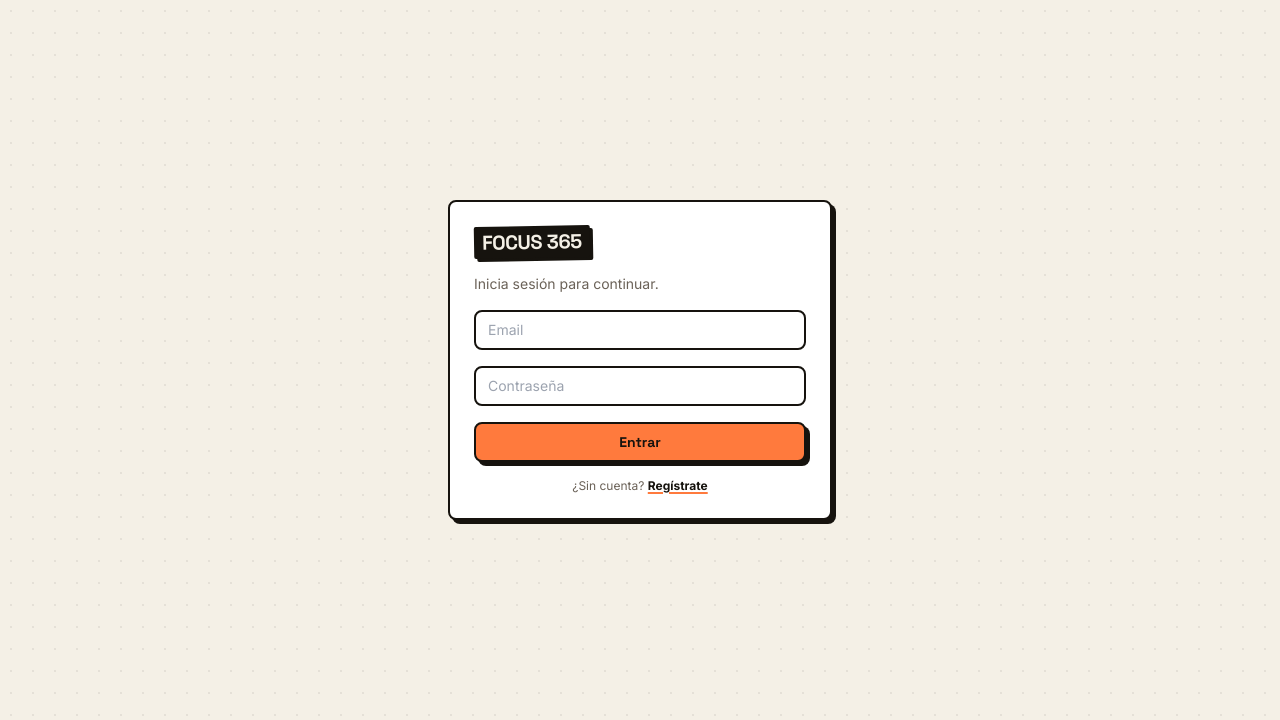
LoginPage › muestra error cuando el login falla
The image size is (1280, 720).
Type "x@y.com" into the field labelled "Email" at (640, 330), box [474,310,806,350]
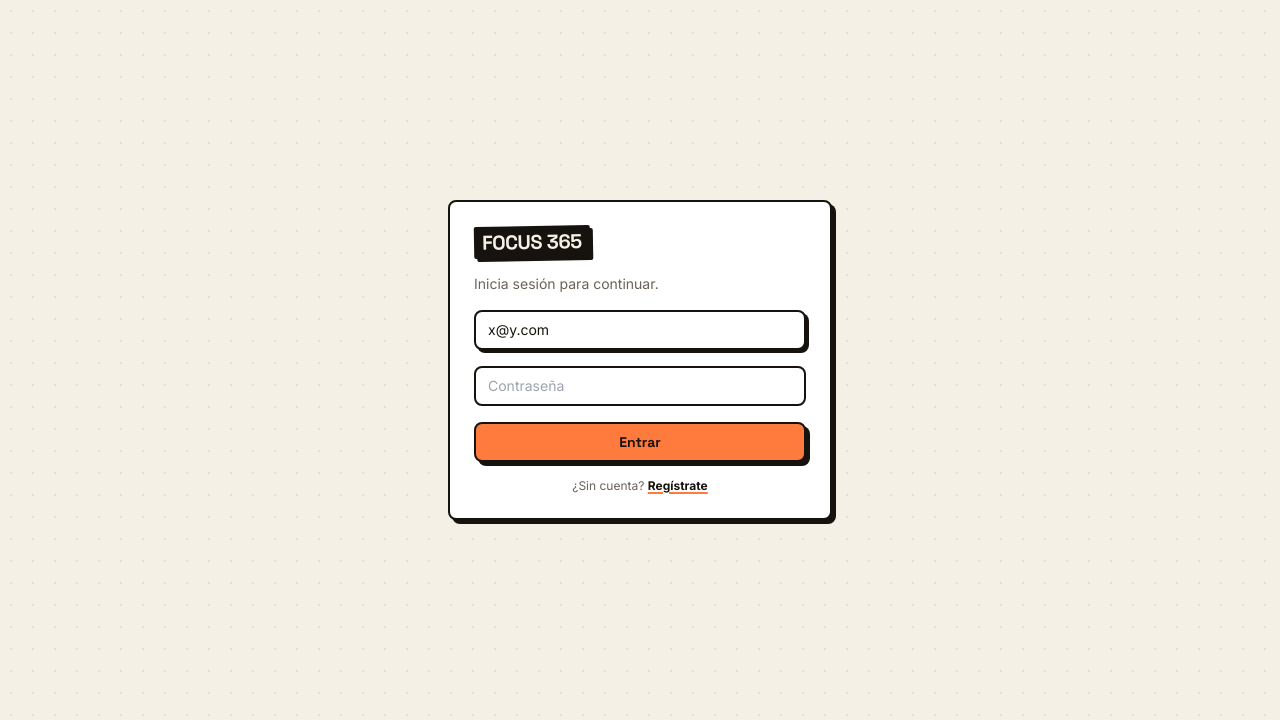
Type "bad" into the password field labelled "Contraseña" at (640, 386), box [474,366,806,406]
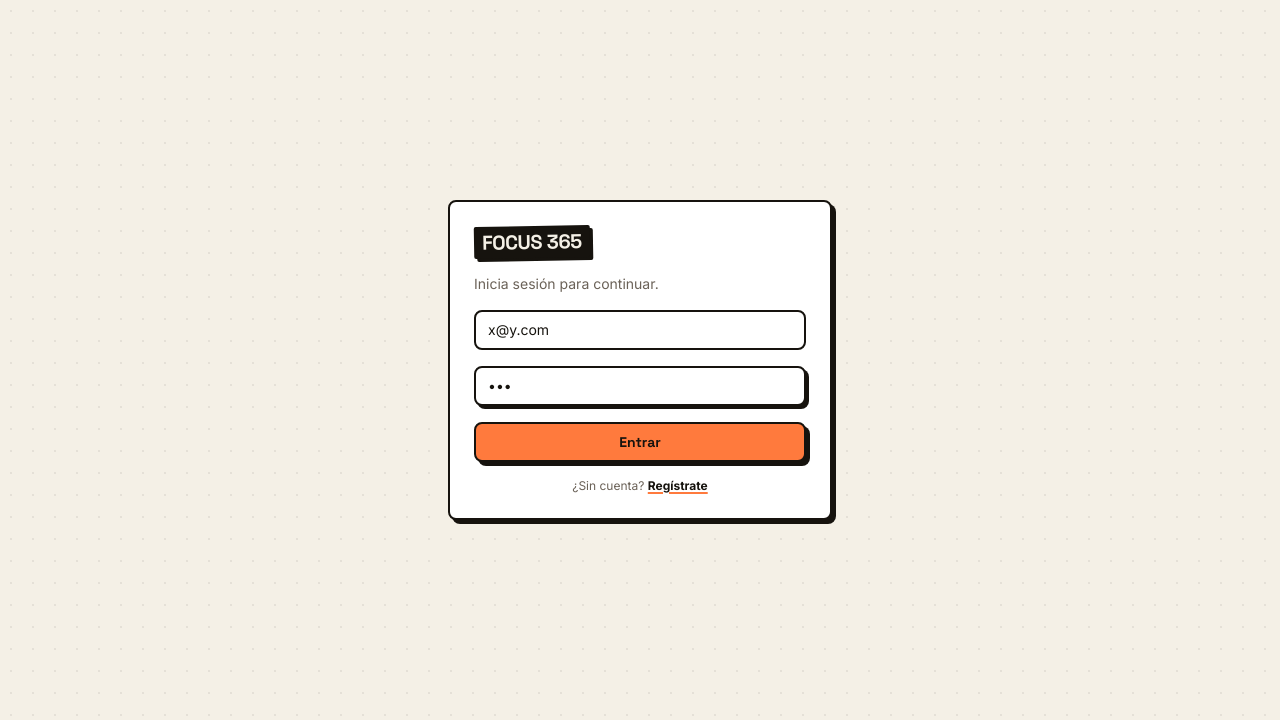
Click the button "Entrar" at (640, 442), box [474,422,806,462]
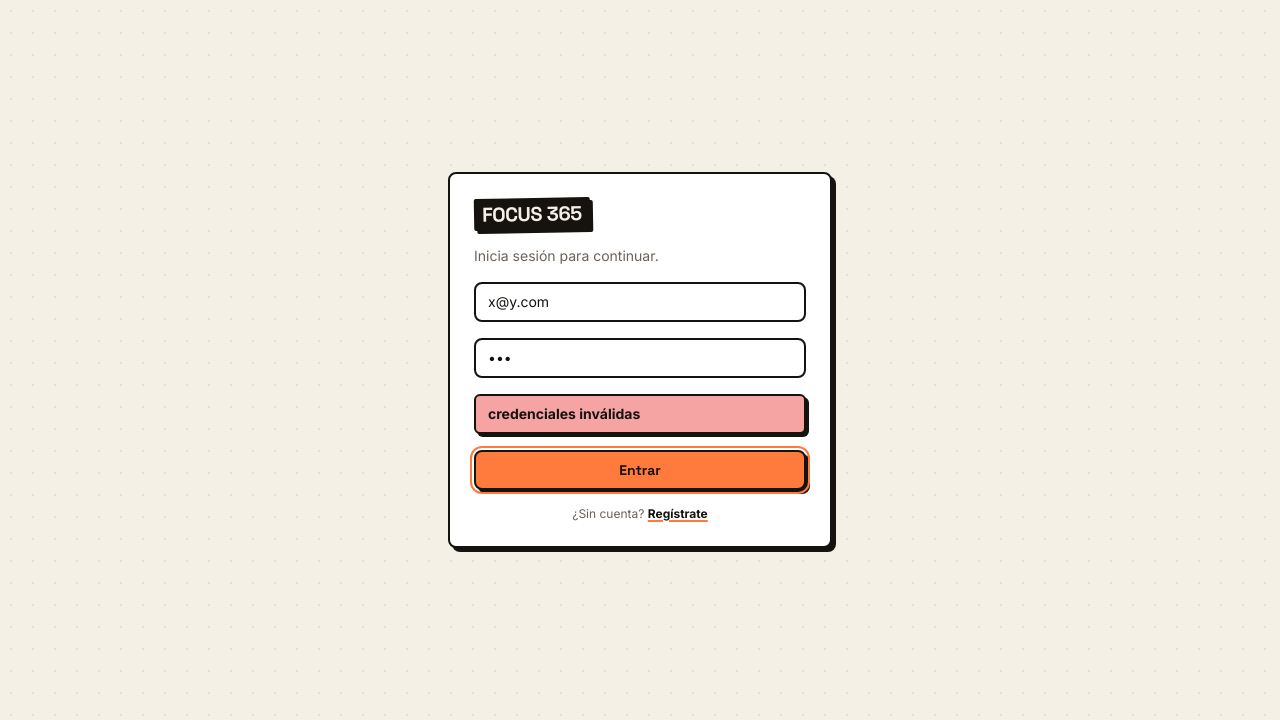
Result: the text "credenciales inválidas" is shown at [474,394,806,434]
